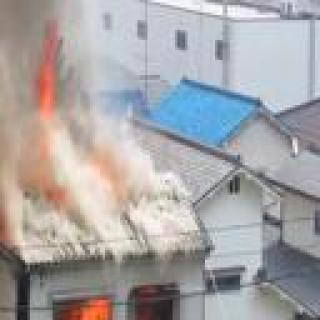fire: (24, 38, 65, 217), (51, 305, 175, 320), (0, 197, 7, 320)
